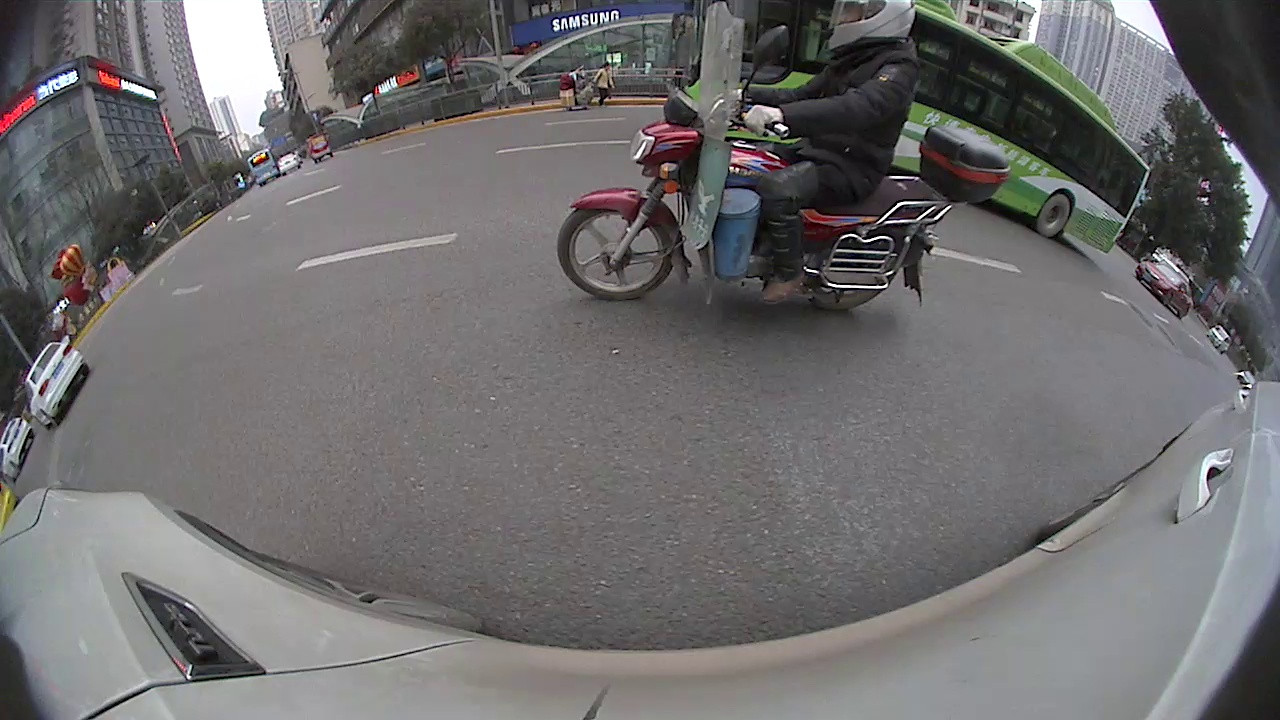bus: (674, 1, 1154, 252), (249, 149, 276, 183)
car: (26, 339, 91, 425), (1137, 261, 1192, 316), (2, 418, 32, 479), (279, 154, 301, 175)
front: (556, 193, 674, 301), (1160, 290, 1176, 305)
person: (601, 65, 610, 103)
rear: (804, 238, 893, 315), (1034, 192, 1071, 239)
rider: (557, 1, 1015, 317), (310, 138, 333, 161)
